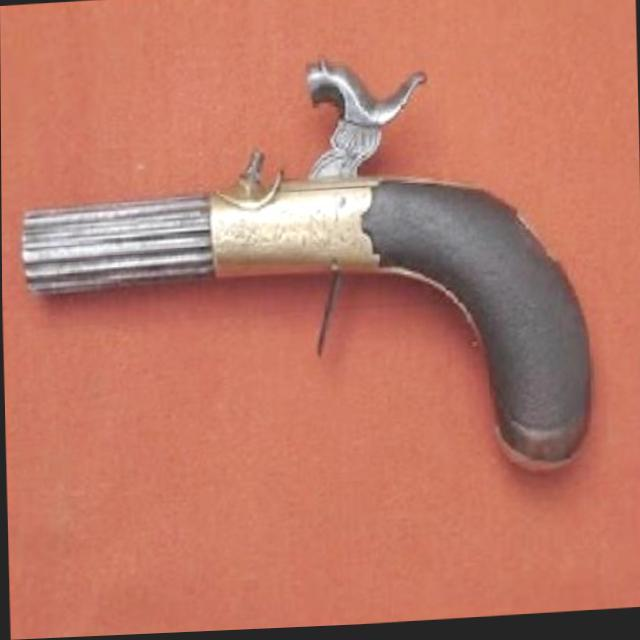gun: (14, 36, 606, 507)
